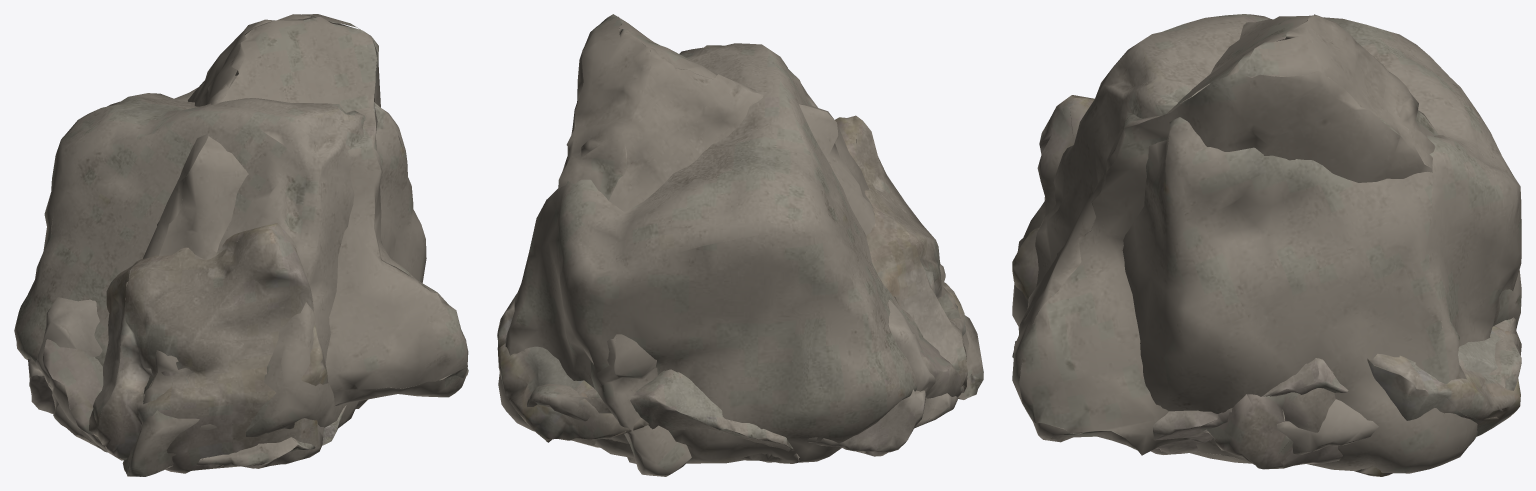
File: rocks.glb
The picture shows the model from 3 angles, left to right: view 1: azimuth 30°, elevation 25°; view 2: azimuth 150°, elevation 25°; view 3: azimuth 270°, elevation 25°; orthographic projection. The views are drawn at different scales.
Visible parts, largest first — view 1: rock_2, rock_5, rock_6, rock_7, rock_3, rock_4, rock_1; view 2: rock_2, rock_5, rock_6, rock_4, rock_1, rock_3, rock_7; view 3: rock_2, rock_5, rock_6, rock_7, rock_1, rock_3, rock_4.
Part boxes in pixels (x1,y1,x2,y2): rock_2: (14, 75, 426, 436); rock_5: (122, 14, 468, 476); rock_6: (89, 223, 328, 473); rock_7: (42, 339, 123, 460); rock_3: (35, 297, 107, 452); rock_4: (195, 405, 346, 465); rock_1: (28, 356, 55, 413); rock_2: (498, 43, 923, 463); rock_5: (558, 14, 983, 476); rock_6: (497, 115, 967, 442); rock_4: (527, 369, 801, 463); rock_1: (807, 389, 925, 456); rock_3: (888, 300, 957, 428); rock_7: (856, 291, 963, 398); rock_2: (1012, 14, 1521, 473); rock_5: (1012, 14, 1521, 457); rock_6: (1012, 95, 1521, 476); rock_7: (1194, 371, 1342, 469); rock_1: (1151, 358, 1348, 454); rock_3: (1277, 321, 1442, 454); rock_4: (1012, 317, 1521, 411).
Bounding box in the file's own units: 1 × 0.9064 × 1.
7 materials, 7 textured.
